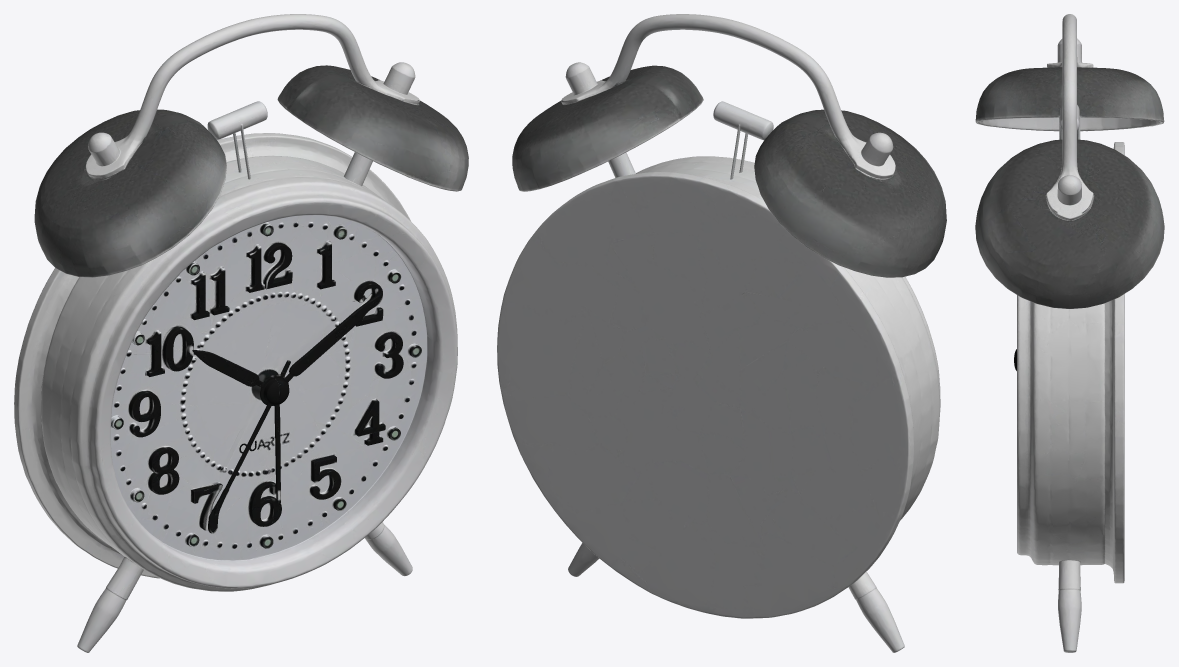
File: Meshy_AI_Silver_Bell_Alarm_Clo_1005061746_texture.glb
3 views of the same model, side by side, from view 1: azimuth 30°, elevation 25°; view 2: azimuth 150°, elevation 25°; view 3: azimuth 270°, elevation 25° (orthographic). The views are drawn at different scales.
Size of the model in its own units: 1.39 by 1.9 by 0.5938.
1 material, 1 textured.
